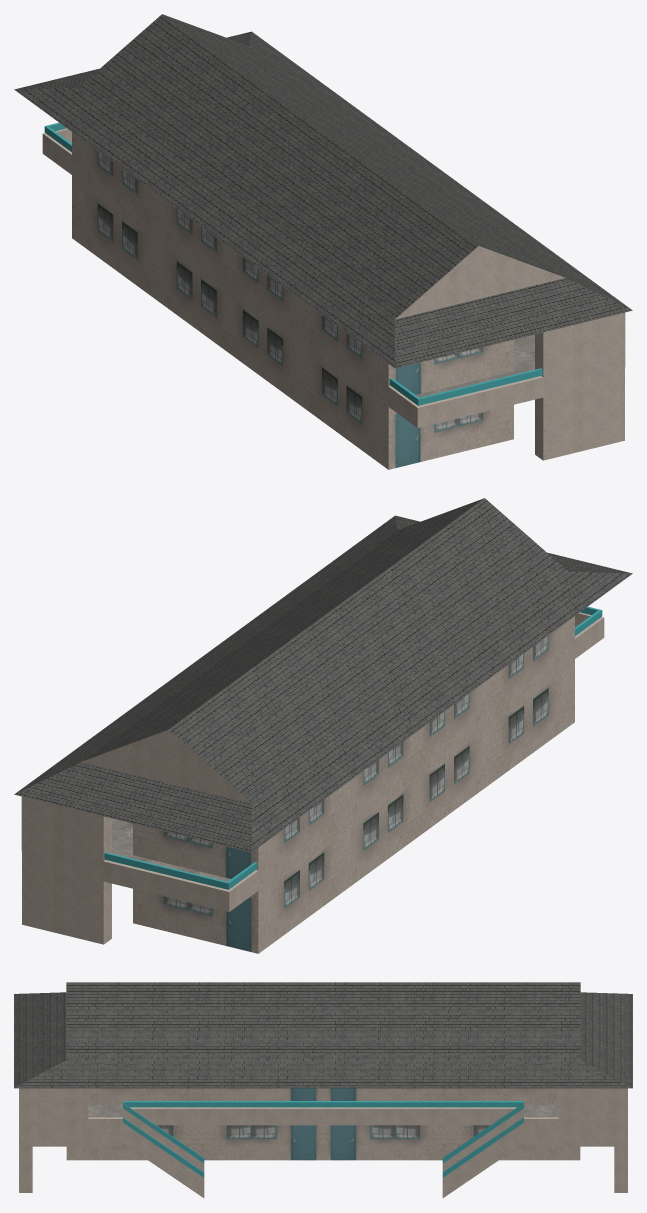
Rendered from cuntw_stwnmotel01.obj.
The picture shows the model from 3 angles, top to bottom: view 1: azimuth 30°, elevation 25°; view 2: azimuth 150°, elevation 25°; view 3: azimuth 270°, elevation 25°; orthographic projection. The views are drawn at different scales.
Visible parts, largest first — view 1: cuntw_stwnmotel01; view 2: cuntw_stwnmotel01; view 3: cuntw_stwnmotel01.
Boxes of the visible parts, left/top/right/bottom form: cuntw_stwnmotel01: left=14, top=14, right=632, bottom=469; cuntw_stwnmotel01: left=14, top=498, right=632, bottom=953; cuntw_stwnmotel01: left=14, top=982, right=632, bottom=1197.
Bounding box in the file's own units: 9.86 × 8.36 × 27.39.
Materials: 6 (6 with a texture image).
